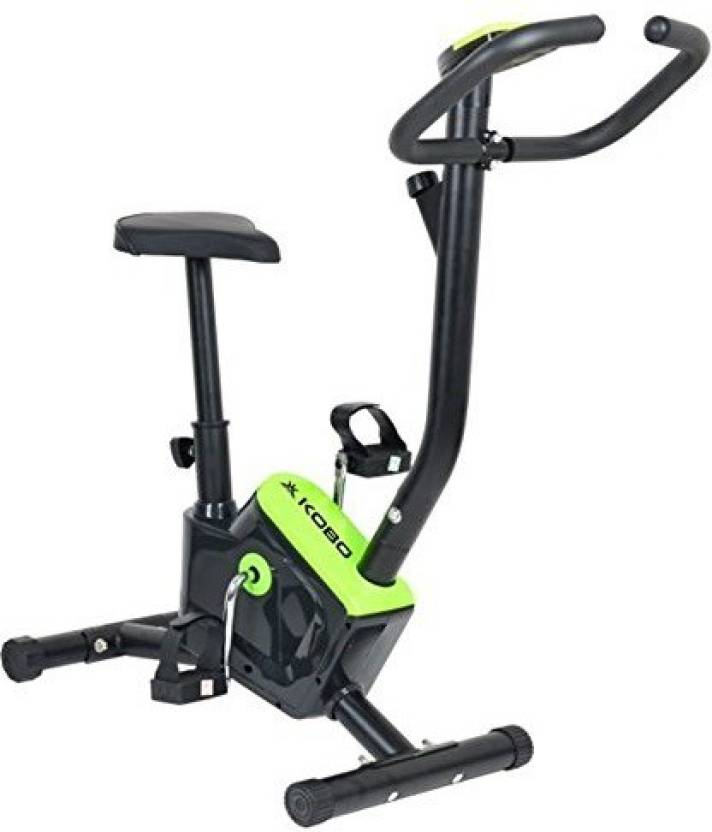gym_bike: (15, 17, 702, 823)
